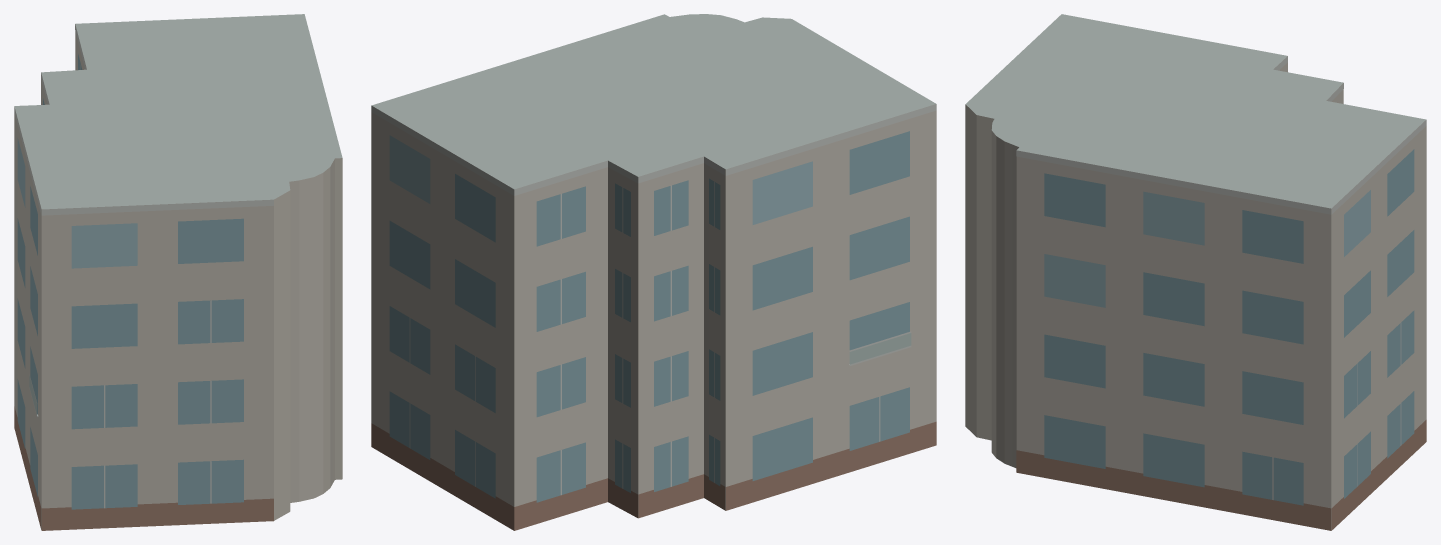
File: survey-upis-32524548.glb
The picture shows the model from 3 angles, left to right: view 1: azimuth 30°, elevation 25°; view 2: azimuth 150°, elevation 25°; view 3: azimuth 270°, elevation 25°; orthographic projection. The views are drawn at different scales.
Parts seen in each view (by area): view 1: survey-upis-32524548.tmp; view 2: survey-upis-32524548.tmp; view 3: survey-upis-32524548.tmp.
Boxes of the visible parts, x1=… form: survey-upis-32524548.tmp: x1=14, y1=14, x2=342, y2=530; survey-upis-32524548.tmp: x1=371, y1=14, x2=936, y2=530; survey-upis-32524548.tmp: x1=965, y1=14, x2=1426, y2=530.
Size of the model in its own units: 16.45 by 12.7 by 16.47.
